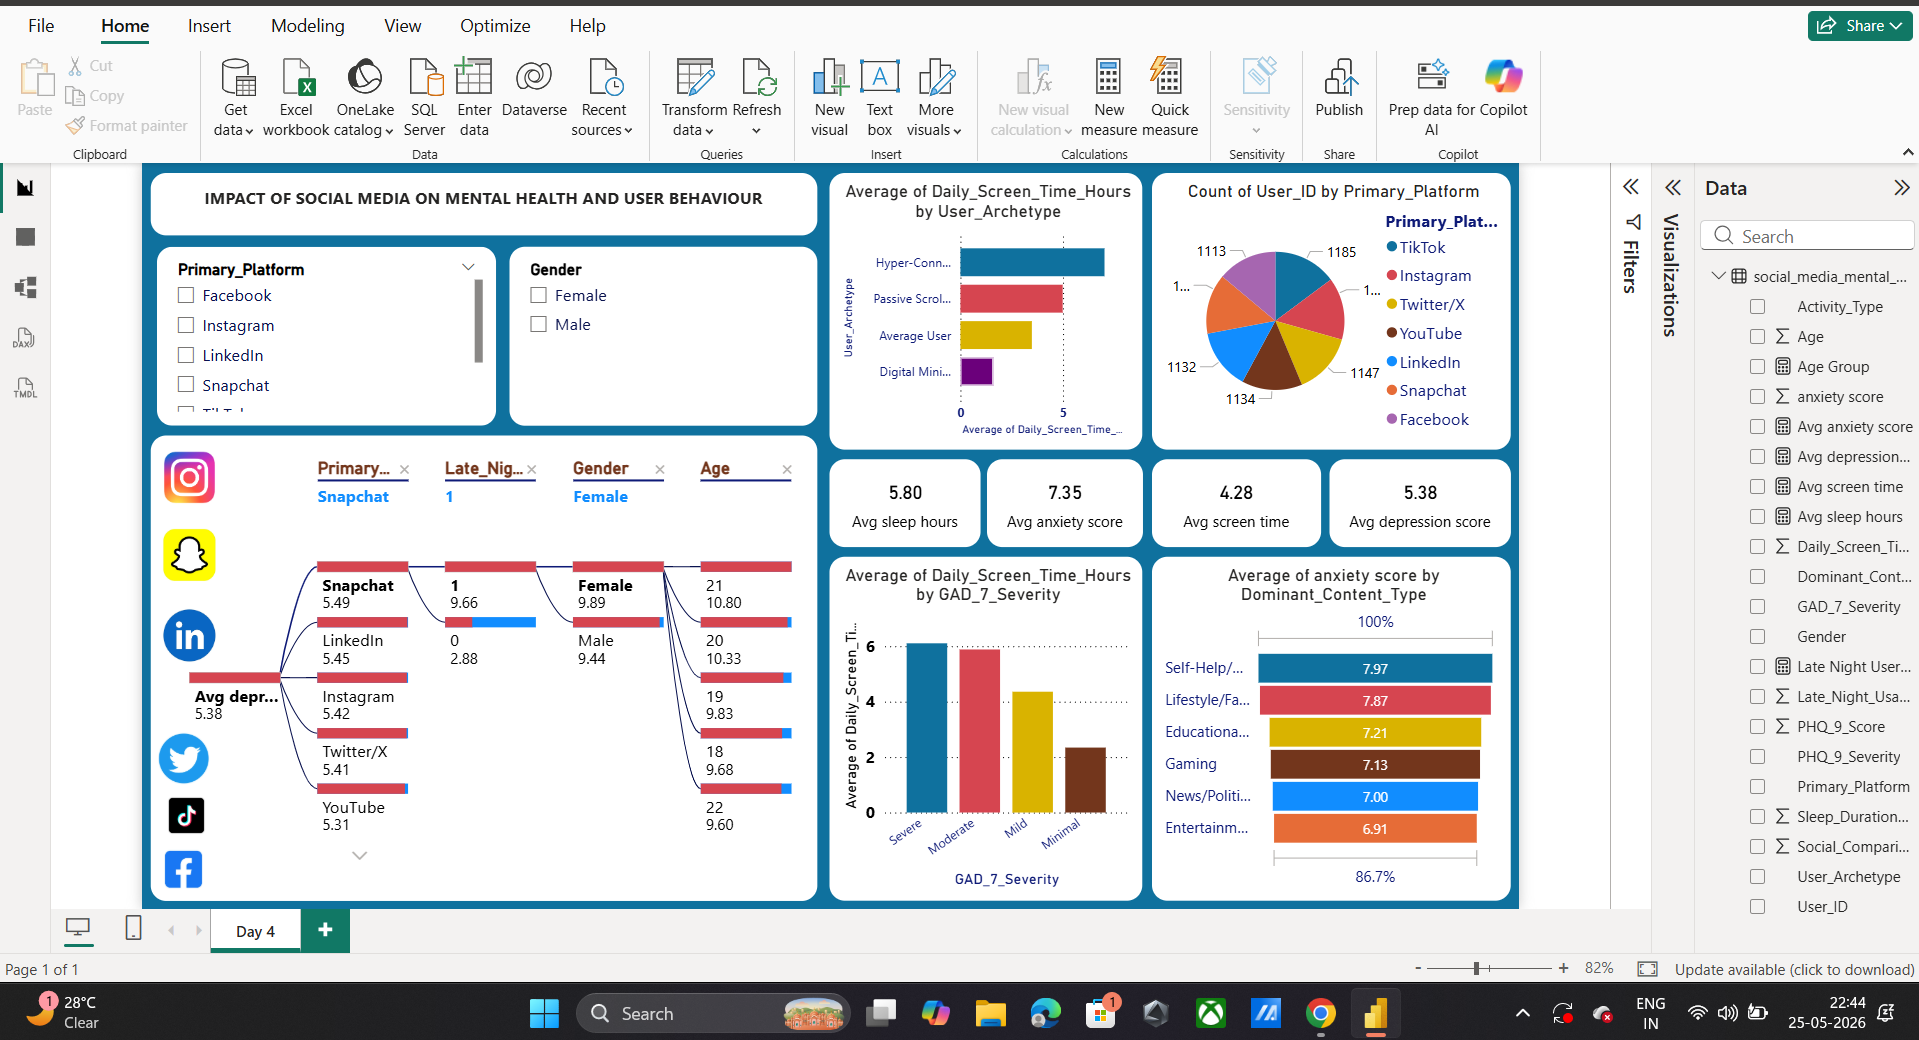

Layout of this report page (visuals, bound fields, positions):
{"tool":"powerbi","page":{"name":"Day 4 ","canvas":[1342,727],"ordinal":0},"visuals":[{"type":"decompositionTreeVisual","fields":{"Analyze":["social_media_mental_health.Avg depression score"],"ExplainBy":["social_media_mental_health.Primary_Platform","social_media_mental_health.Late_Night_Usage","social_media_mental_health.Gender","social_media_mental_health.Age"]},"box":[8.5,265.8,649.8,453.5],"z":0},{"type":"pieChart","fields":{"Y":["CountNonNull(social_media_mental_health.User_ID)"],"Category":["social_media_mental_health.Primary_Platform"]},"box":[983.8,9.8,349.9,269.4],"z":1000},{"type":"clusteredColumnChart","fields":{"Category":["social_media_mental_health.GAD_7_Severity"],"Y":["Avg(social_media_mental_health.Daily_Screen_Time_Hours)"]},"box":[670.5,384,304.8,335.3],"z":2000},{"type":"funnel","fields":{"Category":["social_media_mental_health.Dominant_Content_Type"],"Y":["Avg(social_media_mental_health.anxiety score)"]},"box":[983.8,384,349.9,335.3],"z":3000},{"type":"clusteredBarChart","fields":{"Category":["social_media_mental_health.User_Archetype"],"Y":["Avg(social_media_mental_health.Daily_Screen_Time_Hours)"]},"box":[670.5,9.8,304.8,269.4],"z":4000},{"type":"card","fields":{"Values":["social_media_mental_health.Avg sleep hours"]},"box":[670.5,288.9,147.5,85.3],"z":5000},{"type":"textbox","box":[8.5,9.8,649.8,61],"z":6000},{"type":"card","fields":{"Values":["social_media_mental_health.Avg anxiety score"]},"box":[822.9,288.9,152.4,85.3],"z":7000},{"type":"card","fields":{"Values":["social_media_mental_health.Avg depression scoren"]},"box":[1156.9,288.9,176.8,85.3],"z":8000},{"type":"card","fields":{"Values":["social_media_mental_health.Avg screen time"]},"box":[983.8,288.9,164.6,85.3],"z":9000},{"type":"image","box":[8.5,609.6,69.5,53.6],"z":10000},{"type":"image","box":[3.7,663.2,74.4,51.2],"z":11000},{"type":"image","box":[14.6,552.3,52.4,57.3],"z":12000},{"type":"image","box":[14.6,429.1,63.4,63.4],"z":13000},{"type":"image","box":[14.6,347.4,63.4,69.5],"z":14000},{"type":"image","box":[14.6,270.6,63.4,71.9],"z":15000},{"type":"slicer","fields":{"Values":["social_media_mental_health.Primary_Platform"]},"box":[14.6,81.7,330.4,174.3],"z":16000},{"type":"slicer","fields":{"Values":["social_media_mental_health.Gender"]},"box":[358.4,81.7,299.9,174.3],"z":17000}]}

Visuals, with their boxes on the page's 1342x727 design canvas (x1, y1, x2, y2). These are canvas units, not pixel positions in the 1919x1040 screenshot, which may show the page scaled, cropped or inside an application window:
decompositionTreeVisual - social_media_mental_health.Avg depression score x social_media_mental_health.Primary_Platform: bbox=[8, 266, 658, 719]
pieChart - CountNonNull(social_media_mental_health.User_ID) x social_media_mental_health.Primary_Platform: bbox=[984, 10, 1334, 279]
clusteredColumnChart - social_media_mental_health.GAD_7_Severity x Avg(social_media_mental_health.Daily_Screen_Time_Hours): bbox=[670, 384, 975, 719]
funnel - social_media_mental_health.Dominant_Content_Type x Avg(social_media_mental_health.anxiety score): bbox=[984, 384, 1334, 719]
clusteredBarChart - social_media_mental_health.User_Archetype x Avg(social_media_mental_health.Daily_Screen_Time_Hours): bbox=[670, 10, 975, 279]
card - social_media_mental_health.Avg sleep hours: bbox=[670, 289, 818, 374]
textbox: bbox=[8, 10, 658, 71]
card - social_media_mental_health.Avg anxiety score: bbox=[823, 289, 975, 374]
card - social_media_mental_health.Avg depression scoren: bbox=[1157, 289, 1334, 374]
card - social_media_mental_health.Avg screen time: bbox=[984, 289, 1148, 374]
image: bbox=[8, 610, 78, 663]
image: bbox=[4, 663, 78, 714]
image: bbox=[15, 552, 67, 610]
image: bbox=[15, 429, 78, 492]
image: bbox=[15, 347, 78, 417]
image: bbox=[15, 271, 78, 342]
slicer - social_media_mental_health.Primary_Platform: bbox=[15, 82, 345, 256]
slicer - social_media_mental_health.Gender: bbox=[358, 82, 658, 256]
